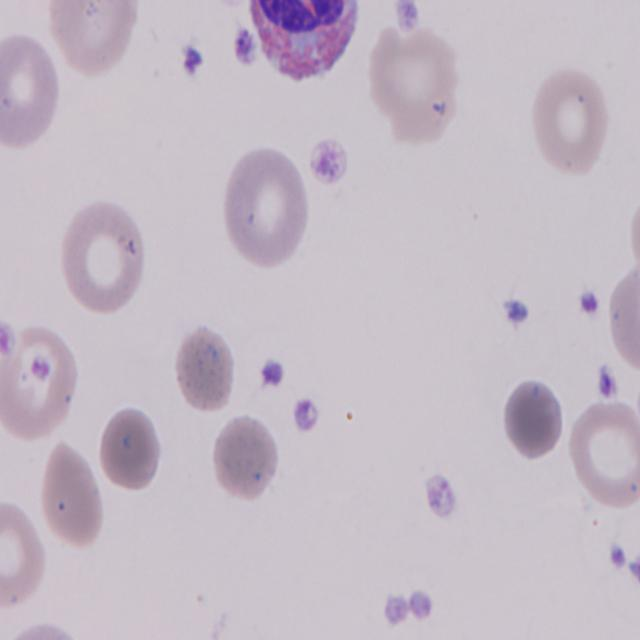RBC: (364, 19, 464, 144), (220, 146, 314, 270), (526, 59, 616, 182), (60, 196, 150, 316), (0, 318, 83, 443), (566, 397, 640, 511), (0, 30, 64, 152), (38, 444, 106, 554), (48, 0, 140, 77), (171, 323, 241, 418), (0, 494, 50, 616), (608, 254, 640, 381)
Spherocyte: (212, 415, 283, 505), (501, 378, 566, 468), (98, 404, 162, 491)
